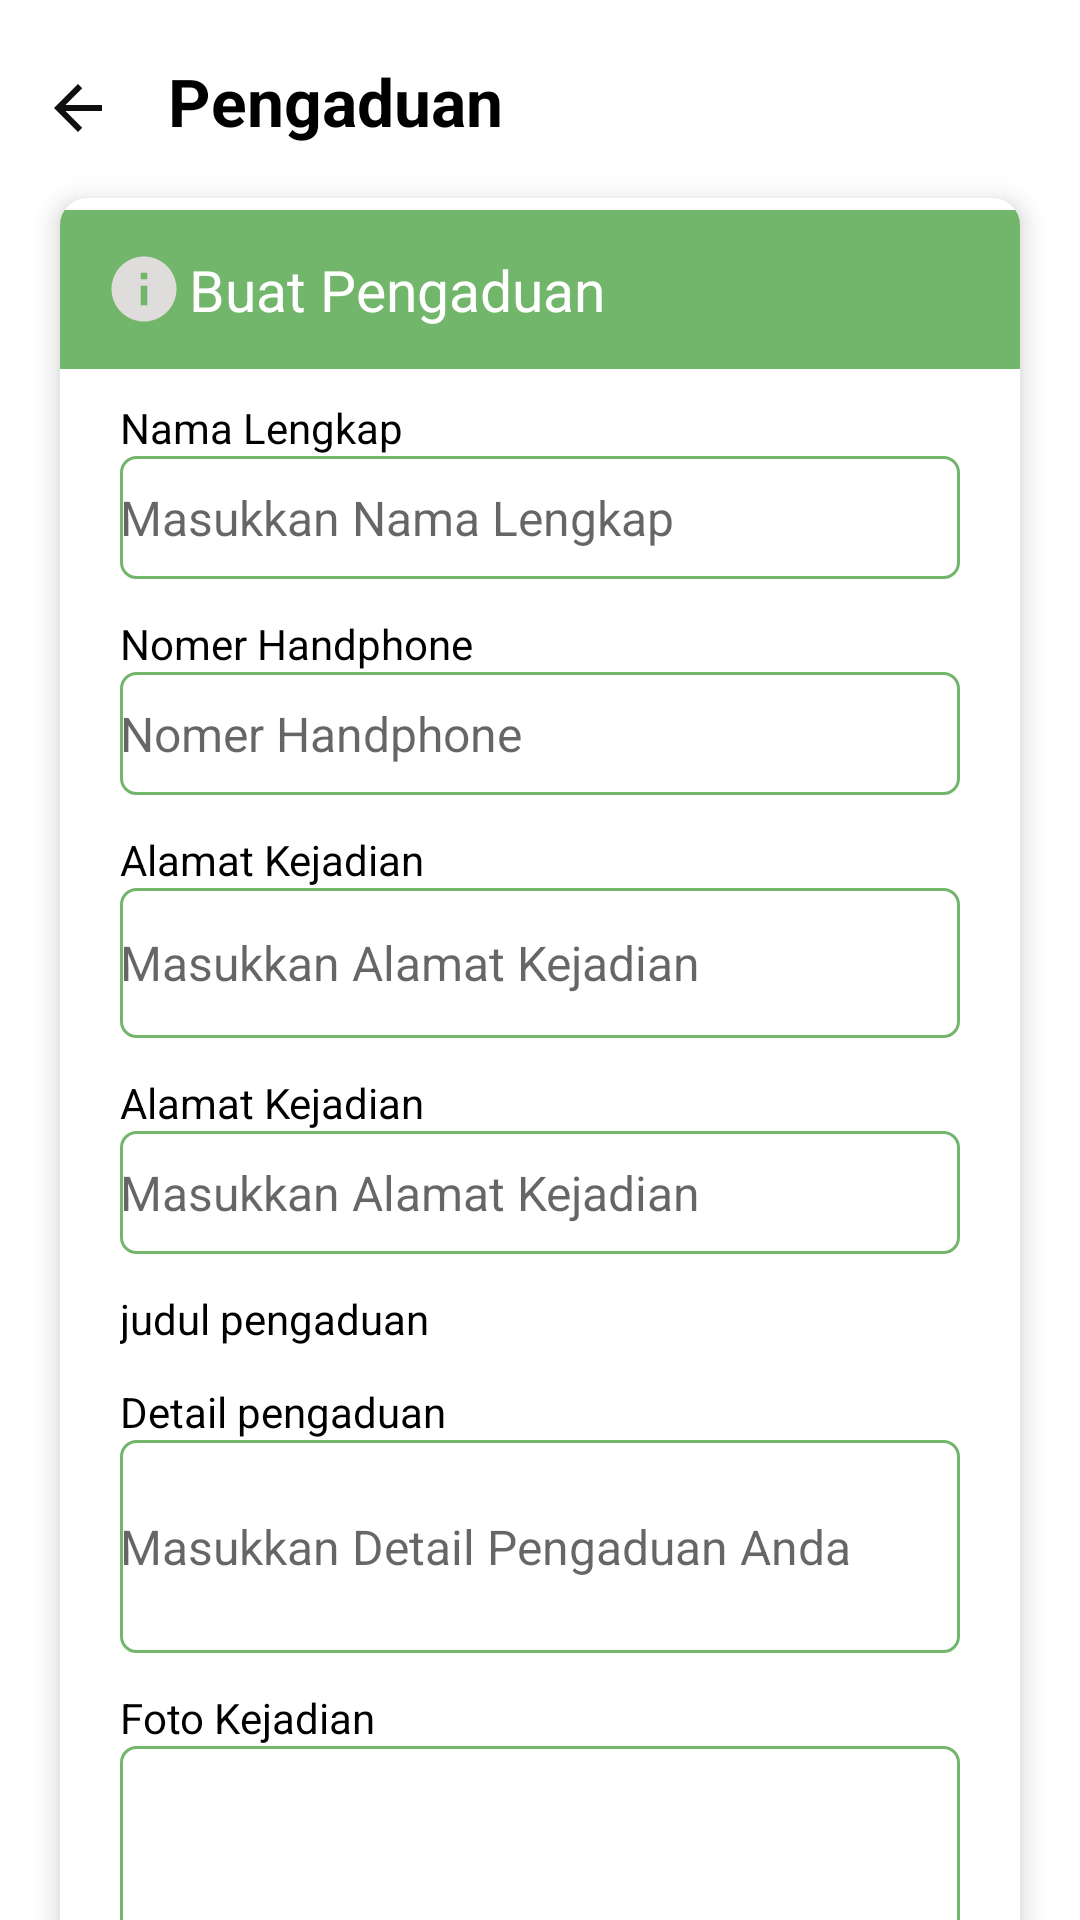

Icon bounding boxes for this 1080*1920 phone screenshot, format (x1, y1, x2, y2):
info: (111, 256, 177, 322)
kembali: (54, 84, 102, 132)
